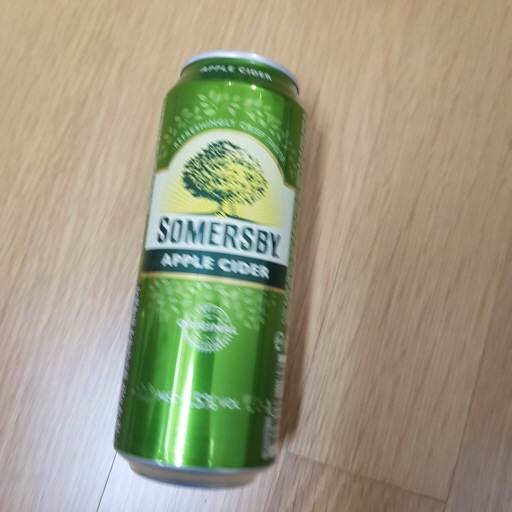Metal_0: (112, 51, 306, 490)
